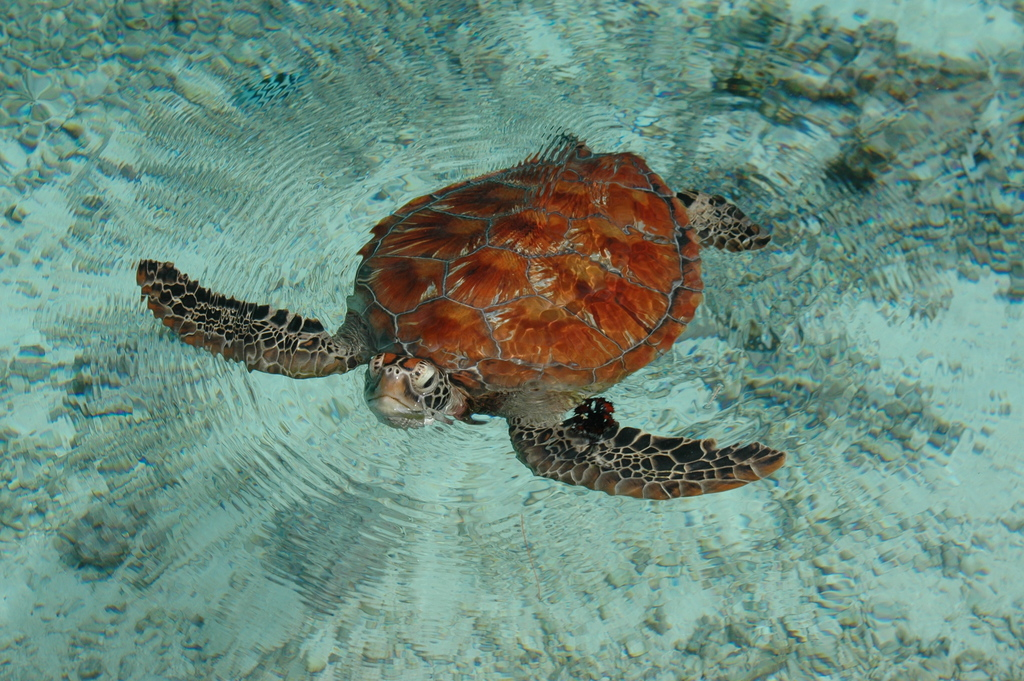Sea turtles: (122, 128, 801, 512)
